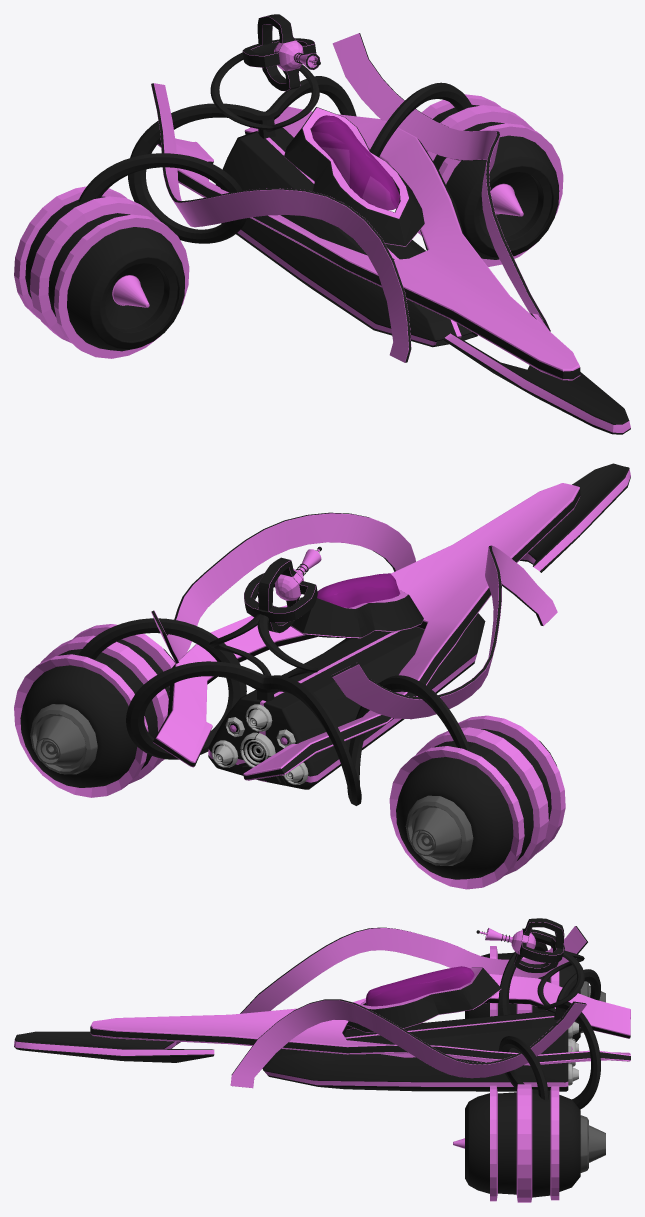
File: Vehicle_001.fbx
3 renders of one model, top to bottom at view 1: azimuth 30°, elevation 25°; view 2: azimuth 150°, elevation 25°; view 3: azimuth 270°, elevation 25°, orthographic. The views are drawn at different scales.
Visible parts, largest first — view 1: M1_JetEngineRight, M1_TopPiece, M1_JetEngineLeft, M1_Base, M1_HelixCord, M1_RibbonRight, M1_RibbonLeft, M1_SeatBorder, M1_TopPiece1, M1_SeatGlass, M1_TetherBeam, M1_HelixHook; view 2: M1_TopPiece, M1_JetEngineRight, M1_JetEngineLeft, M1_Base, M1_HelixCord, M1_RibbonLeft, M1_RibbonRight, M1_SeatBorder, M1_TopPiece1, M1_TetherBeam, M1_JetExhaustLeft, M1_JetExhaustRight (+5 smaller); view 3: M1_Base, M1_JetEngineLeft, M1_TopPiece, M1_RibbonLeft, M1_RibbonRight, M1_TopPiece1, M1_HelixCord, M1_SeatBorder, M1_TetherBeam, M1_SeatGlass, M1_JetEngineRight, M1_JetExhaustLeft (+1 smaller).
Part boxes in pixels (box(x1,y1,x2,y2)): M1_JetEngineRight: box(14, 186, 189, 358); M1_TopPiece: box(157, 106, 580, 380); M1_JetEngineLeft: box(395, 94, 563, 266); M1_Base: box(215, 127, 477, 347); M1_HelixCord: box(78, 76, 472, 243); M1_RibbonRight: box(151, 83, 411, 362); M1_RibbonLeft: box(332, 33, 550, 331); M1_SeatBorder: box(284, 107, 424, 246); M1_TopPiece1: box(443, 313, 630, 434); M1_SeatGlass: box(311, 115, 399, 210); M1_TetherBeam: box(242, 14, 320, 91); M1_HelixHook: box(210, 52, 319, 131); M1_TopPiece: box(153, 483, 580, 780); M1_JetEngineRight: box(389, 715, 565, 889); M1_JetEngineLeft: box(14, 624, 175, 797); M1_Base: box(208, 613, 485, 789); M1_HelixCord: box(78, 618, 471, 805); M1_RibbonLeft: box(151, 512, 415, 663); M1_RibbonRight: box(331, 545, 557, 719); M1_SeatBorder: box(291, 589, 423, 638); M1_TopPiece1: box(520, 463, 630, 572); M1_TetherBeam: box(244, 546, 321, 633); M1_JetExhaustLeft: box(30, 704, 97, 774); M1_JetExhaustRight: box(405, 795, 473, 865); M1_Base: box(262, 1011, 568, 1091); M1_JetEngineLeft: box(453, 1084, 580, 1202); M1_TopPiece: box(90, 974, 630, 1065); M1_RibbonLeft: box(230, 999, 586, 1088); M1_RibbonRight: box(240, 926, 587, 1013); M1_TopPiece1: box(14, 1031, 214, 1062); M1_HelixCord: box(498, 941, 600, 1109); M1_SeatBorder: box(346, 967, 501, 1032); M1_TetherBeam: box(476, 918, 564, 973); M1_SeatGlass: box(366, 966, 474, 1006); M1_JetEngineRight: box(465, 946, 580, 1042); M1_JetExhaustLeft: box(580, 1115, 605, 1172).
Size of the model in its own units: 10.99 by 5.59 by 15.09.
